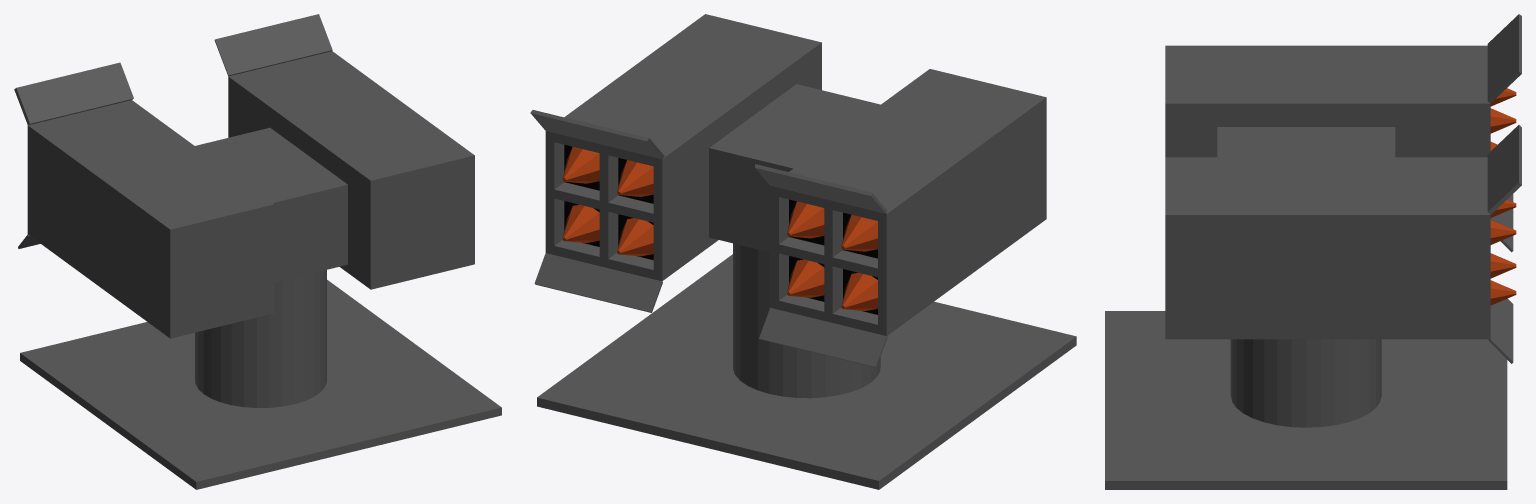
File: Turret.glb
The picture shows the model from 3 angles, left to right: view 1: azimuth 30°, elevation 25°; view 2: azimuth 150°, elevation 25°; view 3: azimuth 270°, elevation 25°; orthographic projection. The views are drawn at different scales.
Parts seen in each view (by area): view 1: Barrels, Base, Body, Head; view 2: Barrels, Base, Head, Missiles, Body; view 3: Barrels, Base, Body, Head, Missiles.
Boxes of the visible parts, bbox=[...] form: Barrels: bbox=[14, 14, 474, 338]; Base: bbox=[20, 280, 501, 489]; Body: bbox=[195, 270, 326, 407]; Head: bbox=[195, 127, 347, 282]; Barrels: bbox=[530, 14, 1046, 367]; Base: bbox=[537, 254, 1076, 489]; Head: bbox=[709, 84, 880, 252]; Missiles: bbox=[562, 147, 877, 310]; Body: bbox=[733, 243, 880, 398]; Barrels: bbox=[1165, 14, 1521, 363]; Base: bbox=[1105, 311, 1507, 489]; Body: bbox=[1230, 339, 1381, 427]; Head: bbox=[1217, 127, 1395, 157]; Missiles: bbox=[1490, 88, 1516, 305].
Bounding box in the file's own units: 8 × 6.73 × 8.29.
Materials: 1 (1 with a texture image).
